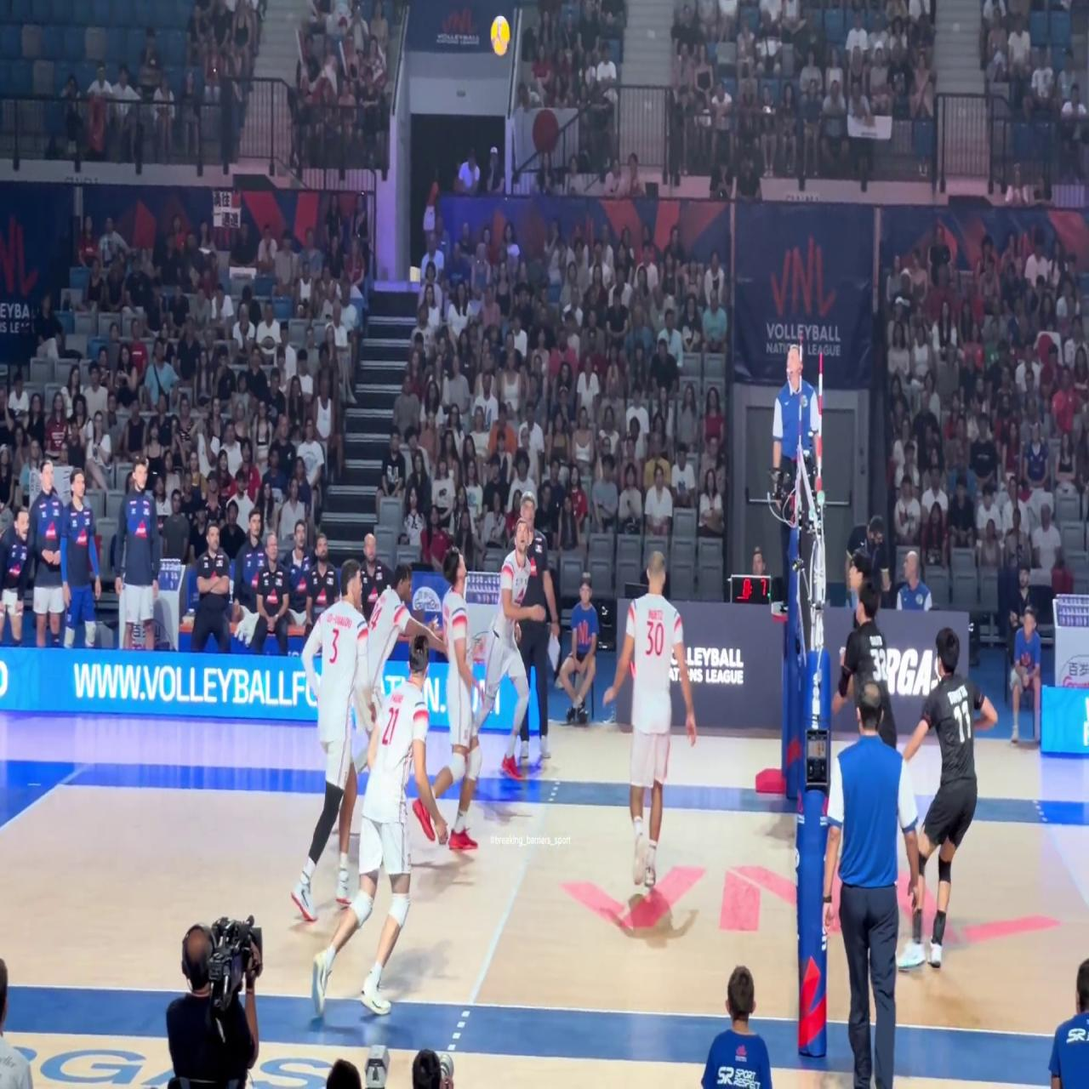ball: (490, 17, 509, 57)
